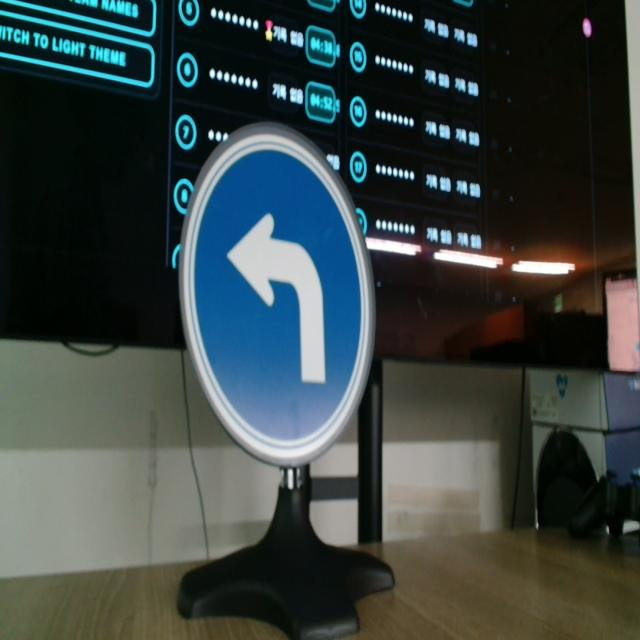left_direction: (167, 94, 392, 488)
